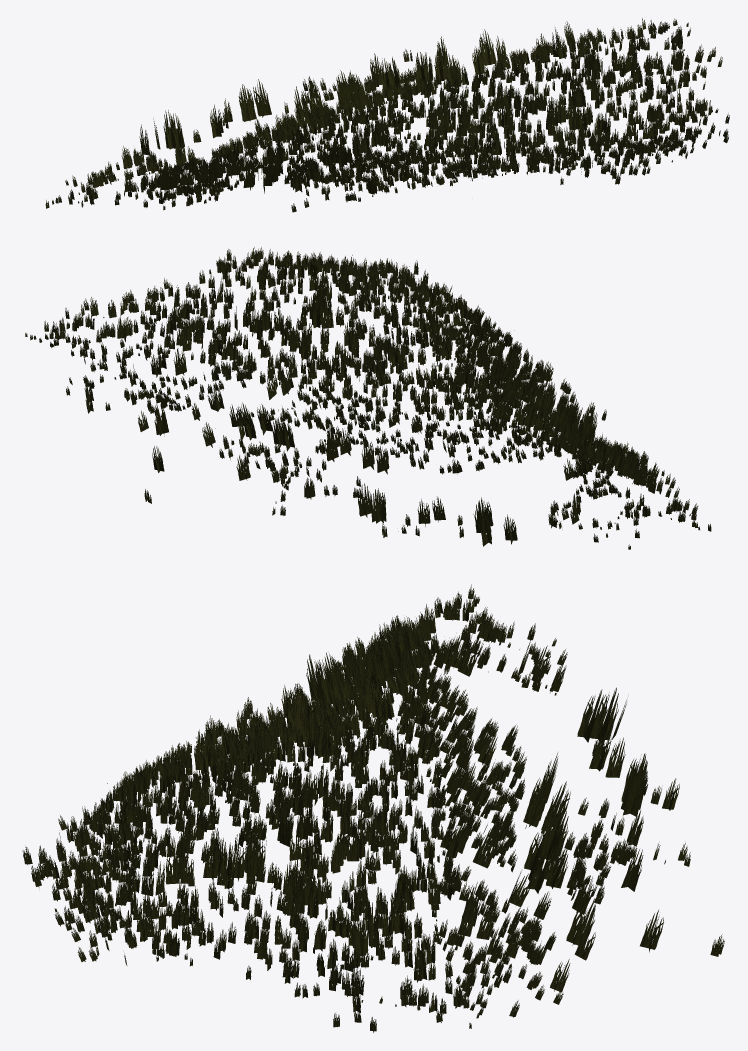
Rendered from seagrass.glb.
3 renders of one model, top to bottom at view 1: azimuth 30°, elevation 25°; view 2: azimuth 150°, elevation 25°; view 3: azimuth 270°, elevation 25°, orthographic. The views are drawn at different scales.
Parts seen in each view (by area): view 1: grass; view 2: grass; view 3: grass.
Boxes of the visible parts, x1=… form: grass: x1=45, y1=18, x2=729, y2=212; grass: x1=25, y1=247, x2=711, y2=549; grass: x1=22, y1=584, x2=724, y2=1032.
Size of the model in its own units: 13.05 by 1.55 by 8.03.
1 material, 1 textured.
